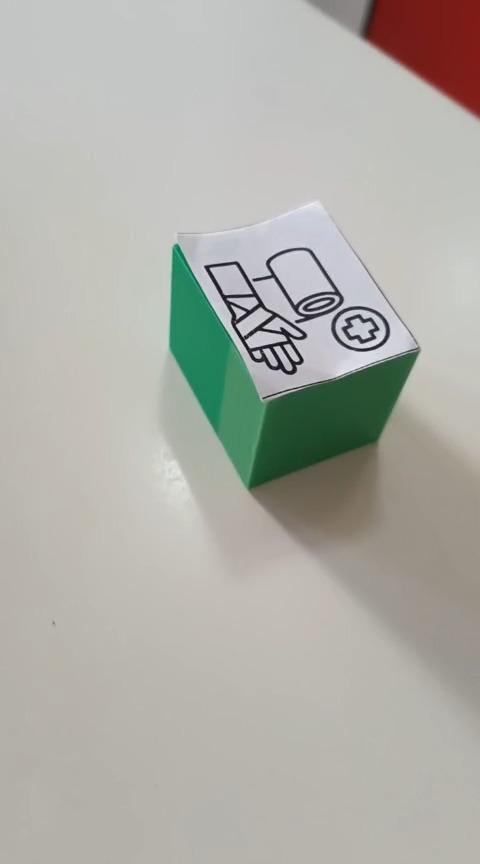Bandages: (168, 199, 421, 490)
